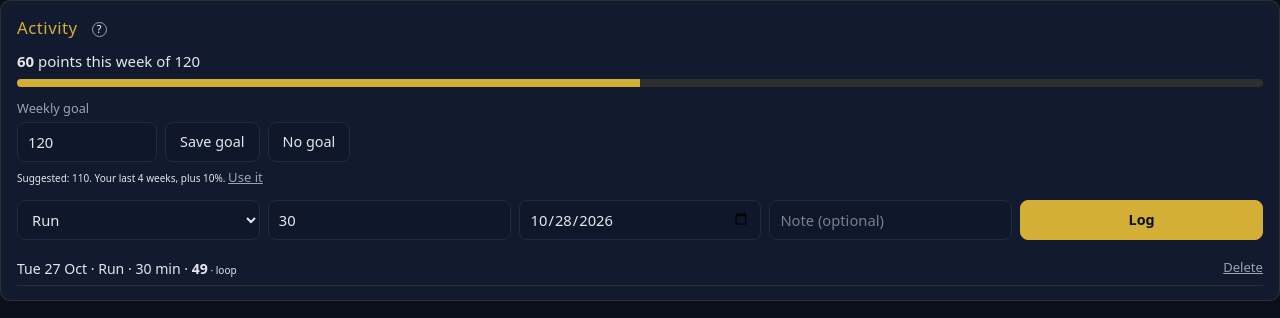
Test case: ActivityCard › clears the goal
Click the button "No goal" at (309, 142), box [268,122,350,162]
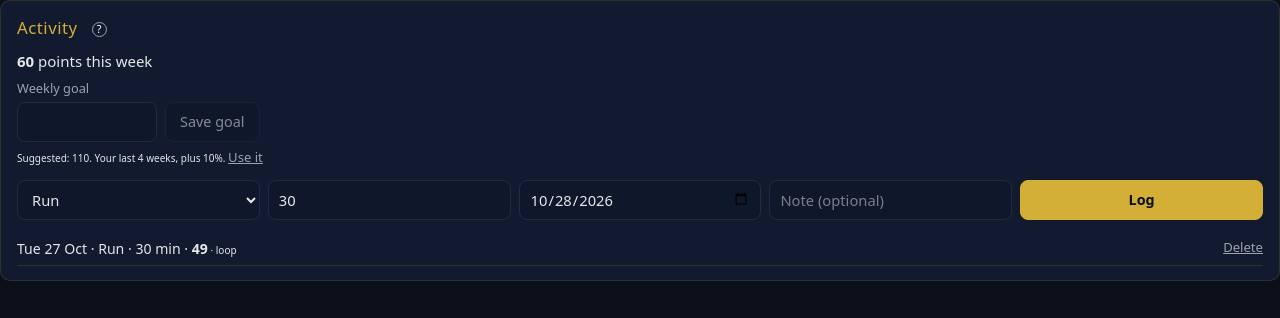
Check: the text "60 points this week" is shown, box [17,51,152,71]
Check: the progress indicator is gone
